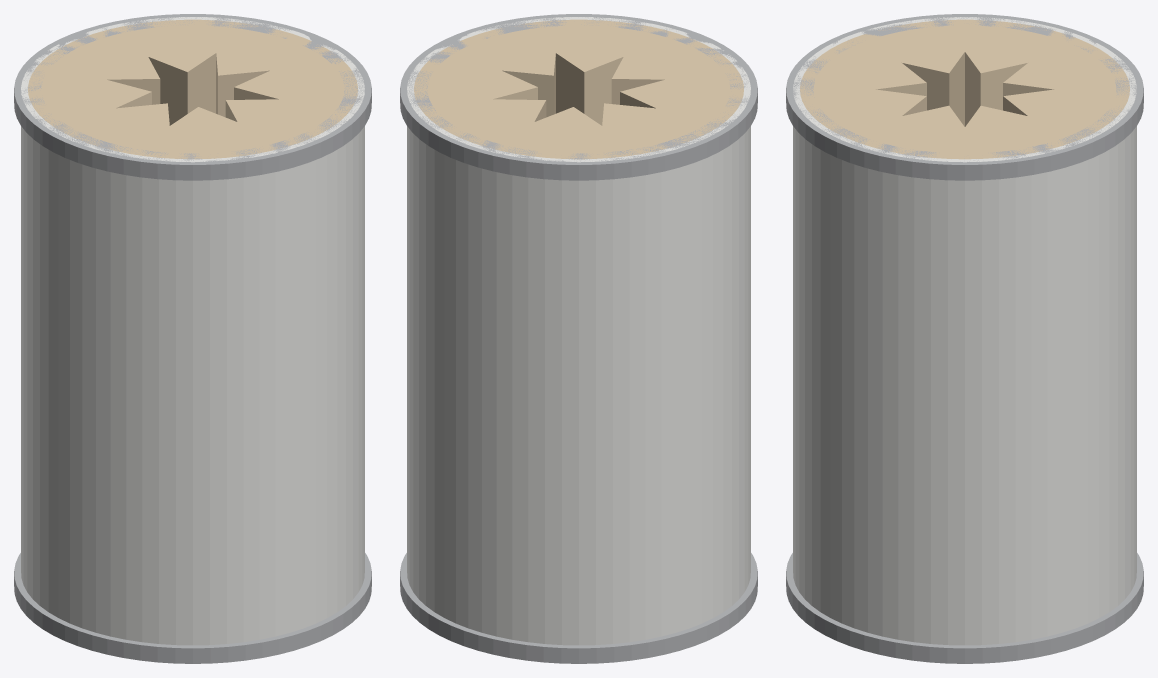
The model's file is tank06_solid_segment.glb.
3 renders of one model, left to right at view 1: azimuth 30°, elevation 25°; view 2: azimuth 150°, elevation 25°; view 3: azimuth 270°, elevation 25°, orthographic.
Parts seen in each view (by area): view 1: casing, grain, joint_flanges; view 2: casing, grain, joint_flanges; view 3: casing, grain, joint_flanges.
Part boxes in pixels (x1,y1,x2,y2): casing: (21, 17, 364, 645); grain: (28, 19, 357, 159); joint_flanges: (14, 14, 371, 663); casing: (407, 17, 750, 645); grain: (414, 19, 743, 159); joint_flanges: (400, 14, 757, 663); casing: (793, 17, 1136, 645); grain: (800, 19, 1129, 159); joint_flanges: (786, 14, 1143, 663).
Size of the model in its own units: 1.3 by 2 by 1.3.
